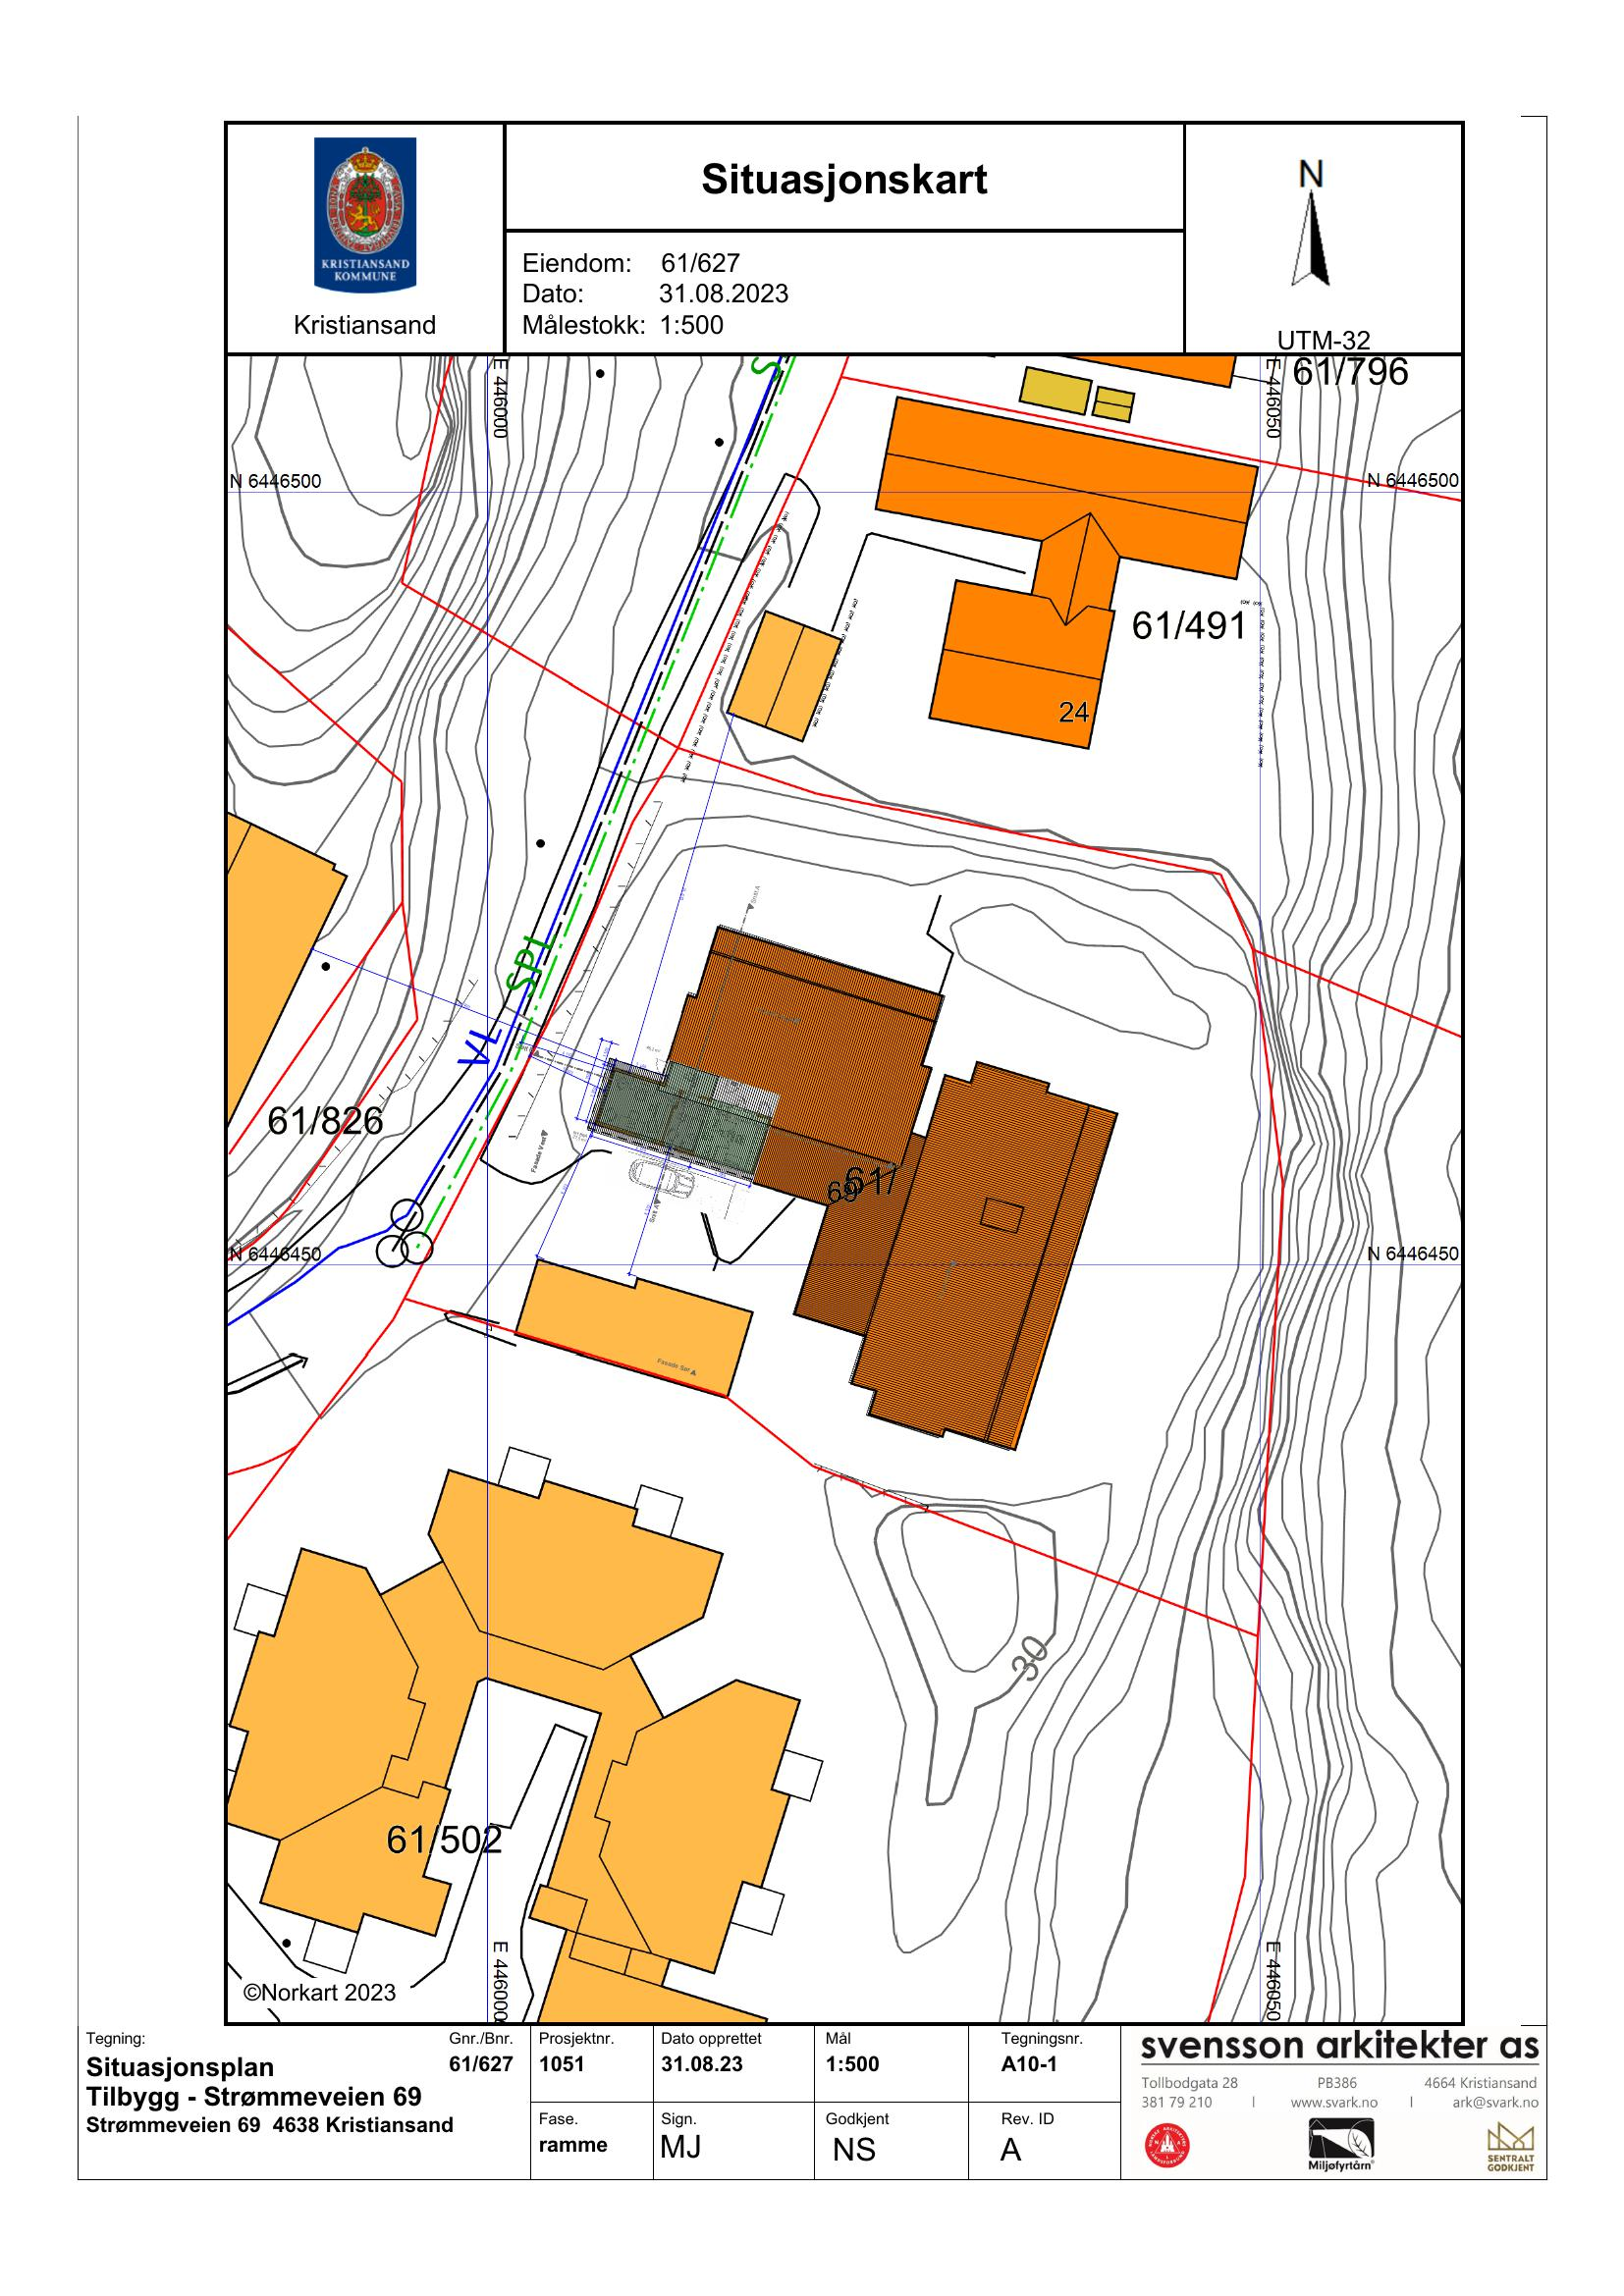situasjonskart: (220, 360, 1475, 2010)
